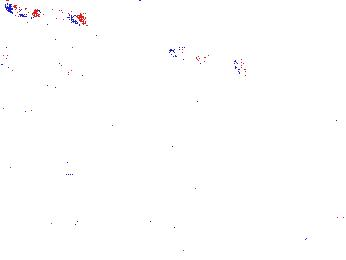X-ray fish: (1, 31, 71, 81)
red belly glassfish: (78, 43, 92, 75)
redtail glassfish: (167, 44, 251, 78), (2, 1, 89, 29)
